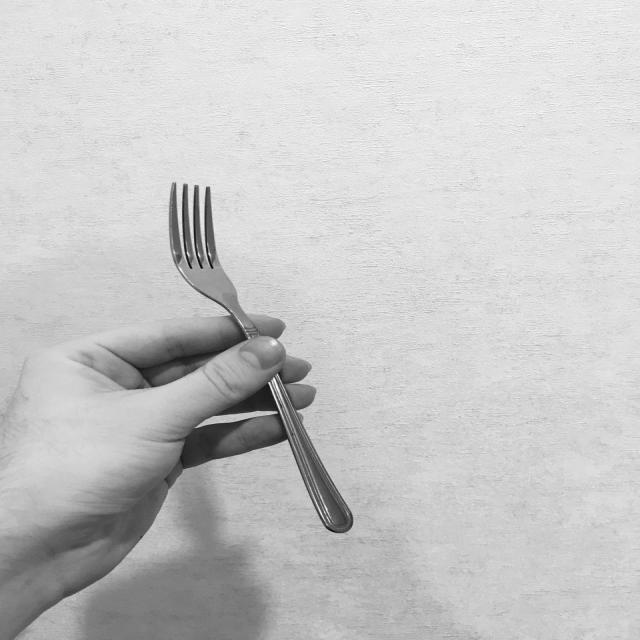fork: (164, 184, 356, 536)
